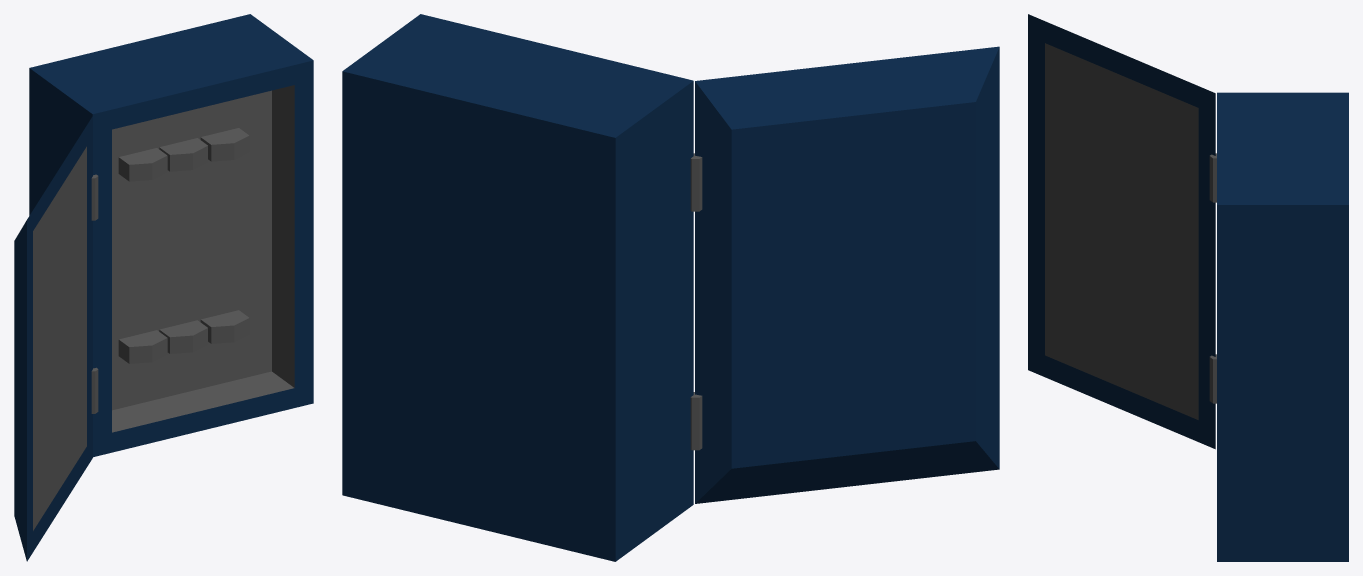
The model's file is Horror2020_FuseBox.fbx.
The picture shows the model from 3 angles, left to right: view 1: azimuth 30°, elevation 25°; view 2: azimuth 150°, elevation 25°; view 3: azimuth 270°, elevation 25°; orthographic projection. The views are drawn at different scales.
Parts seen in each view (by area): view 1: FuseBox; view 2: FuseBox; view 3: FuseBox.
Part boxes in pixels (bbox=[...]): FuseBox: bbox=[14, 14, 313, 561]; FuseBox: bbox=[342, 14, 999, 561]; FuseBox: bbox=[1028, 14, 1348, 561].
Size of the model in its own units: 342 by 297 by 242.
